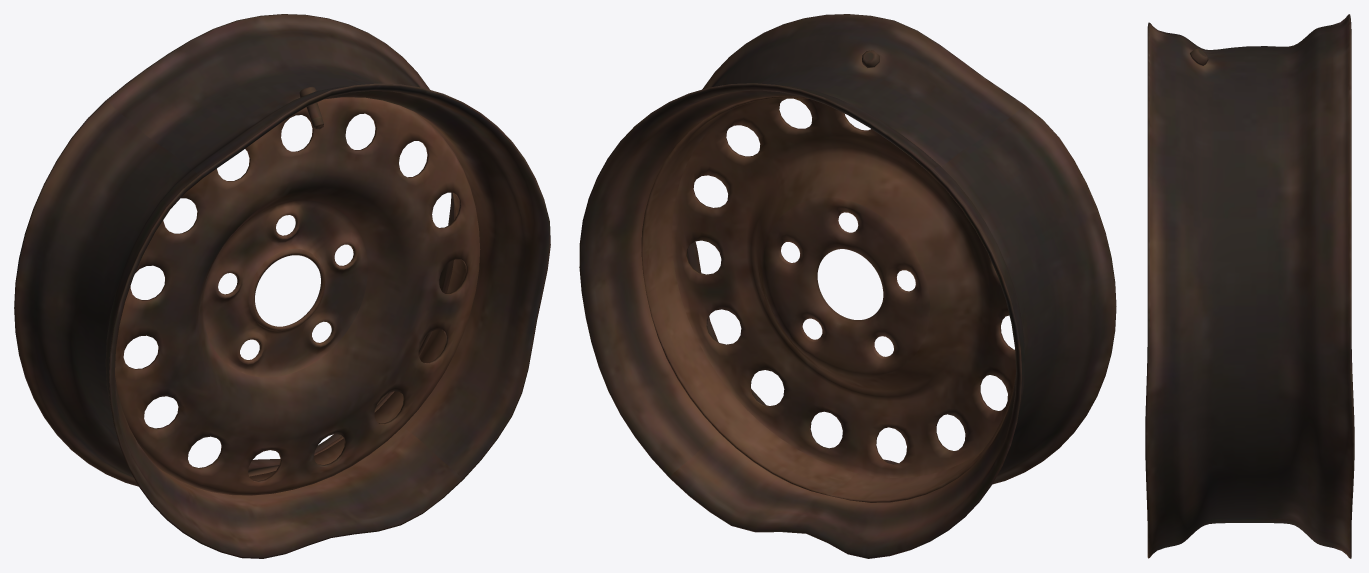
File: rusted_wheel_rim_01.glb
3 renders of one model, left to right at view 1: azimuth 30°, elevation 25°; view 2: azimuth 150°, elevation 25°; view 3: azimuth 270°, elevation 25°, orthographic. The views are drawn at different scales.
Visible parts, largest first — view 1: rusted_wheel_rim_01; view 2: rusted_wheel_rim_01; view 3: rusted_wheel_rim_01.
Boxes of the visible parts, x1=… form: rusted_wheel_rim_01: x1=14, y1=14, x2=550, y2=558; rusted_wheel_rim_01: x1=579, y1=14, x2=1116, y2=558; rusted_wheel_rim_01: x1=1145, y1=14, x2=1354, y2=558.
Bounding box in the file's own units: 0.4029 × 0.3955 × 0.1541.
Materials: 1 (1 with a texture image).
